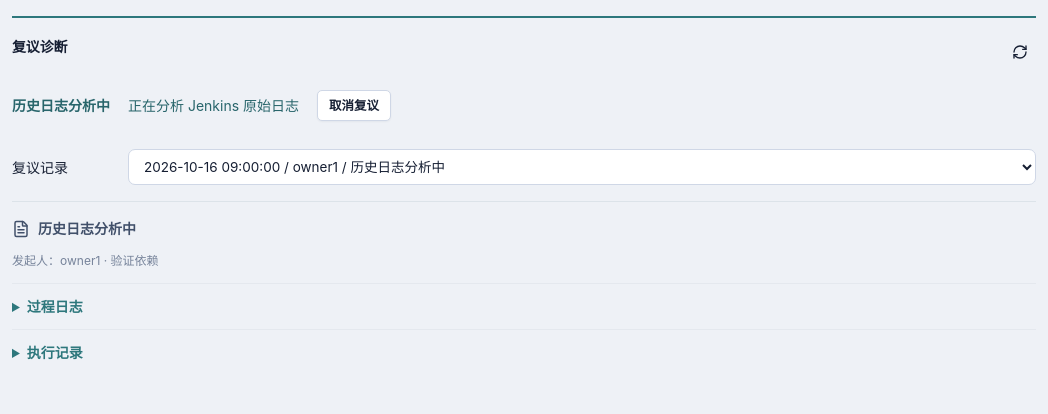
FailureReproPanel › shows historical analysis before source preparation without waiting for a node
This screenshot has width=1048, height=414.
Expected: the message shows "历史日志分析中", [12,97,110,114]
Expected: the message shows "正在分析 Jenkins 原始日志", [128,97,299,114]
Click the heading "执行记录" at [55, 353], box [27,344,83,361]
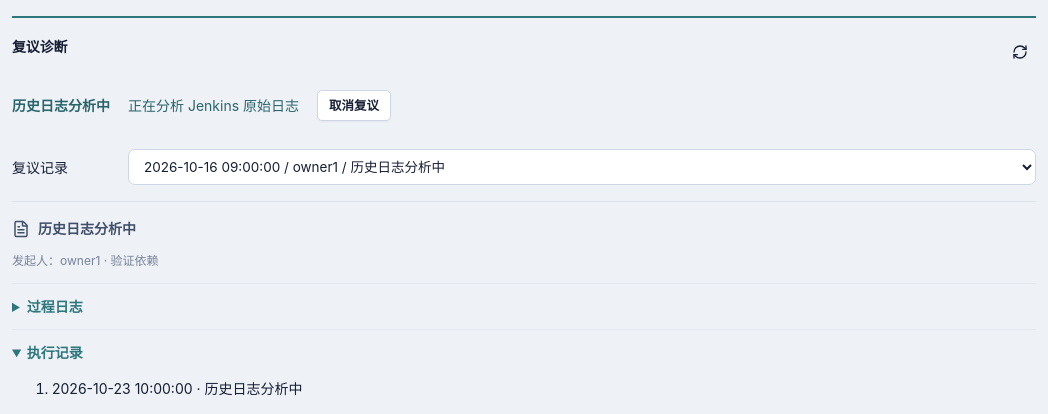
Expected: the list item "2026-10-23 10:00:00 · 历史日志分析中" is shown, [52,380,302,397]
Click the button named "刷新状态" at [1020, 52], box [1004,36,1036,68]
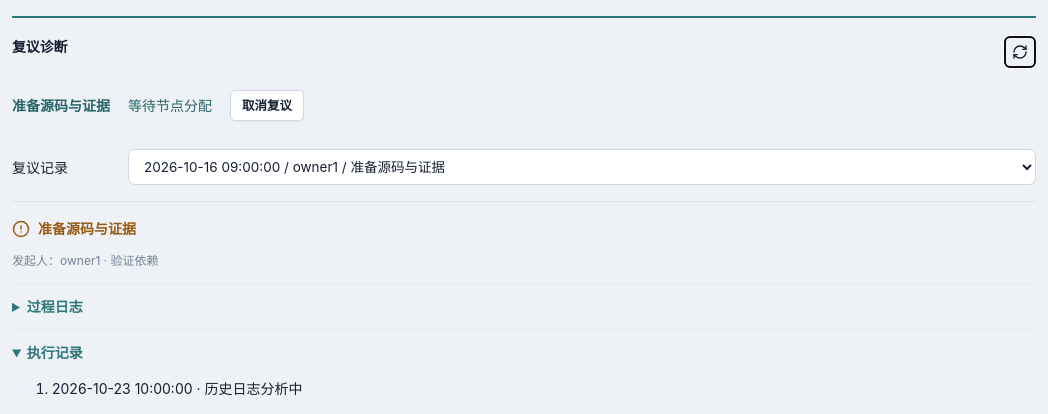
Expected: the message shows "准备源码与证据", [12,97,110,114]
